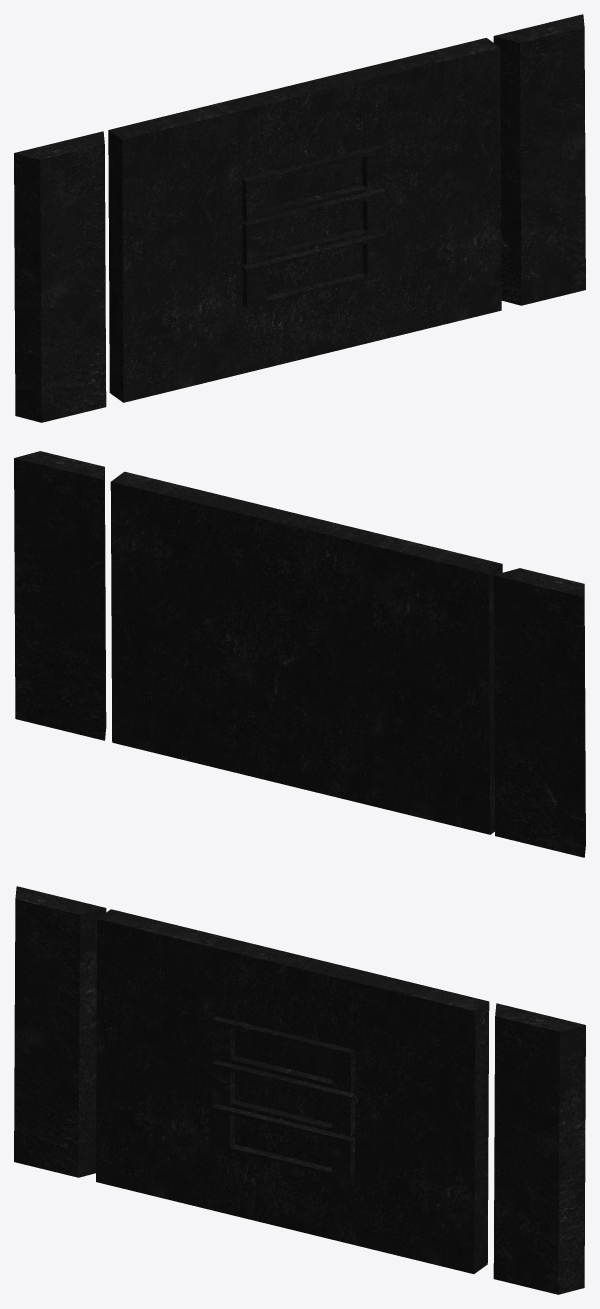
Rendered from ventilator duct.fbx.
3 renders of one model, top to bottom at view 1: azimuth 30°, elevation 25°; view 2: azimuth 150°, elevation 25°; view 3: azimuth 330°, elevation 25°, orthographic.
Parts seen in each view (by area): view 1: polySurface2007; view 2: polySurface2007; view 3: polySurface2007.
Boxes of the visible parts, x1=… form: polySurface2007: x1=14, y1=14, x2=585, y2=422; polySurface2007: x1=14, y1=451, x2=585, y2=857; polySurface2007: x1=14, y1=886, x2=585, y2=1294.
Size of the model in its own units: 377 by 166 by 22.01.
1 material, 1 textured.
